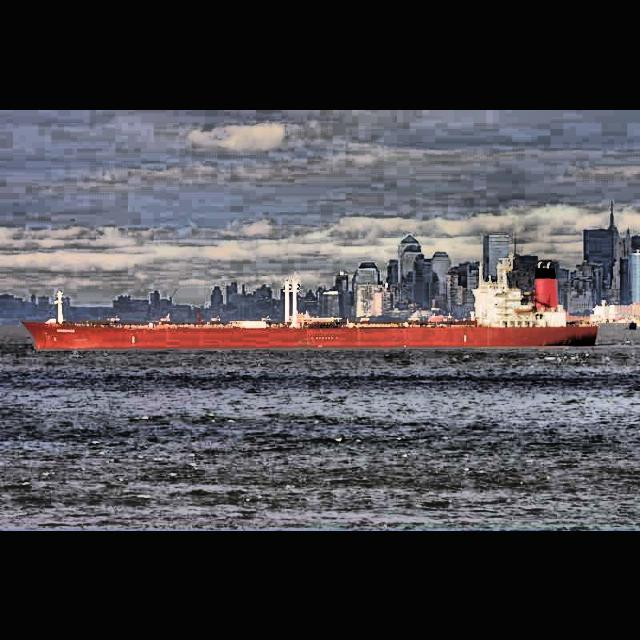bulk_carrier: (19, 251, 600, 351)
